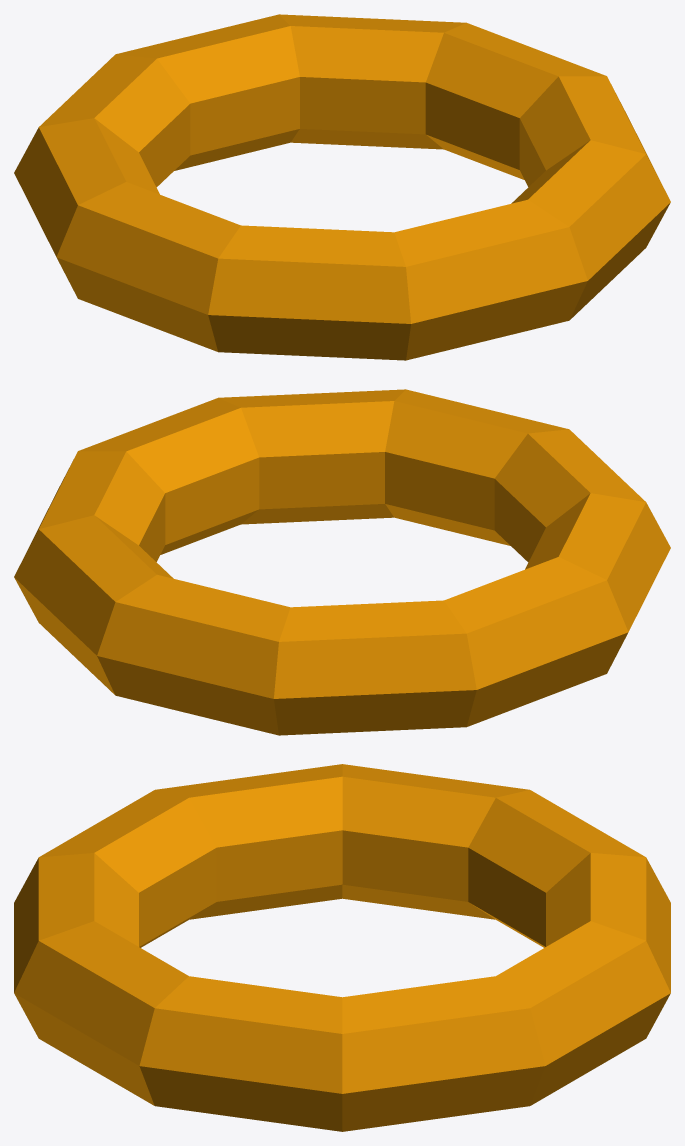
Rendered from Ring.fbx.
The picture shows the model from 3 angles, top to bottom: view 1: azimuth 30°, elevation 25°; view 2: azimuth 150°, elevation 25°; view 3: azimuth 270°, elevation 25°; orthographic projection. The views are drawn at different scales.
Visible parts, largest first — view 1: Ring; view 2: Ring; view 3: Ring.
Boxes of the visible parts, box(x1,y1,x2,y2) form: Ring: box(14, 14, 670, 360); Ring: box(14, 389, 670, 735); Ring: box(14, 764, 670, 1131).
Size of the model in its own units: 17.5 by 3.41 by 16.64.
